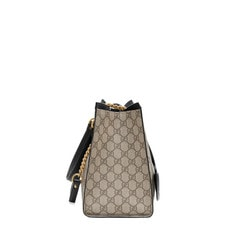Gucci: (71, 79, 158, 221), (105, 123, 147, 204)
